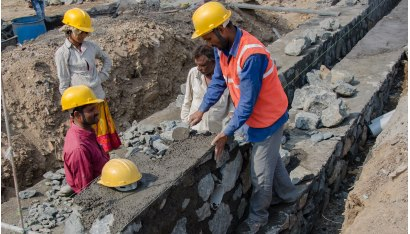NoJacket: (54, 88, 109, 185), (56, 6, 102, 88)
SAFE: (192, 1, 287, 135)
